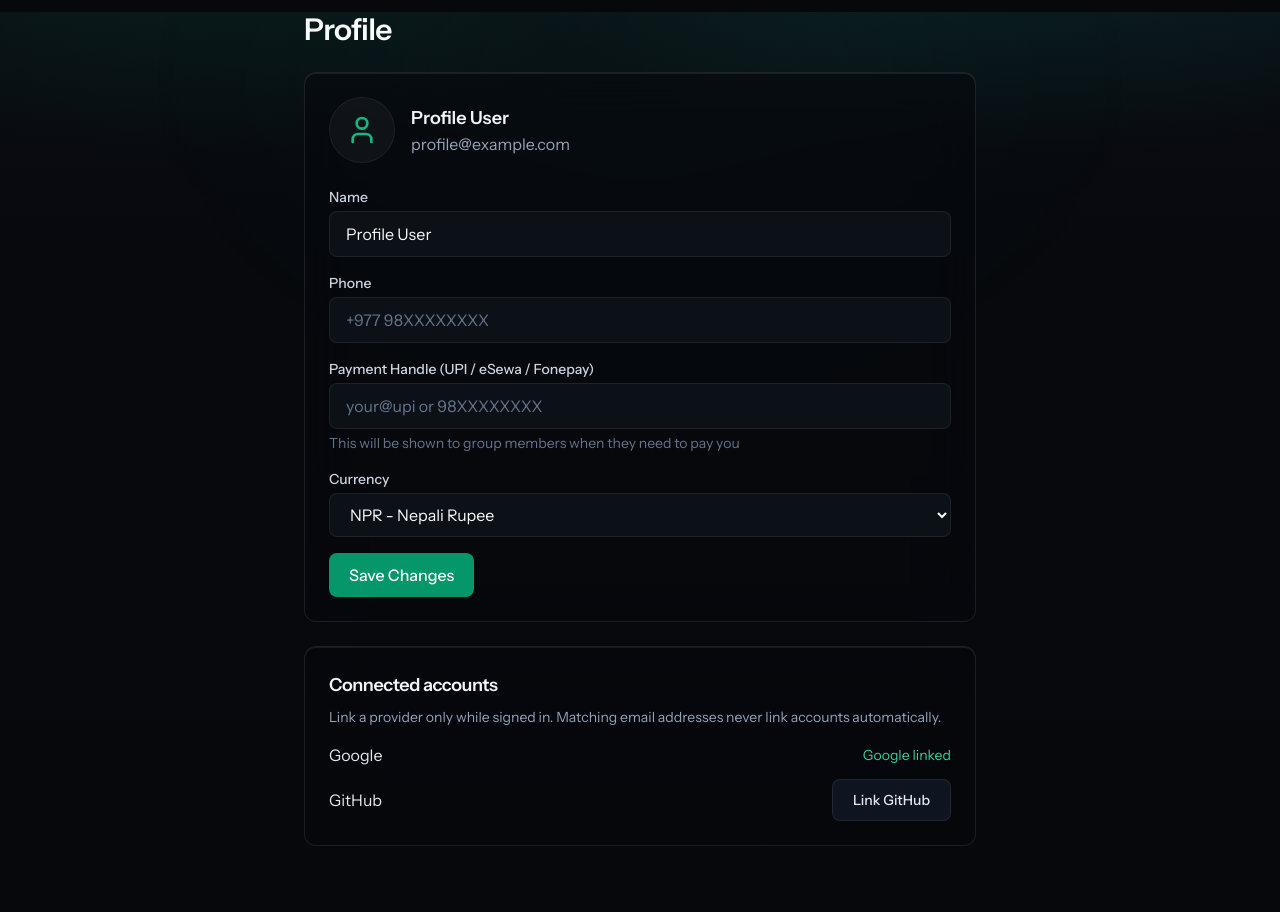
ProfilePage provider linking › shows a clear error if provider linking cannot start
The image size is (1280, 912).
Click the button "Link GitHub" at (892, 800), box [832,779,951,821]
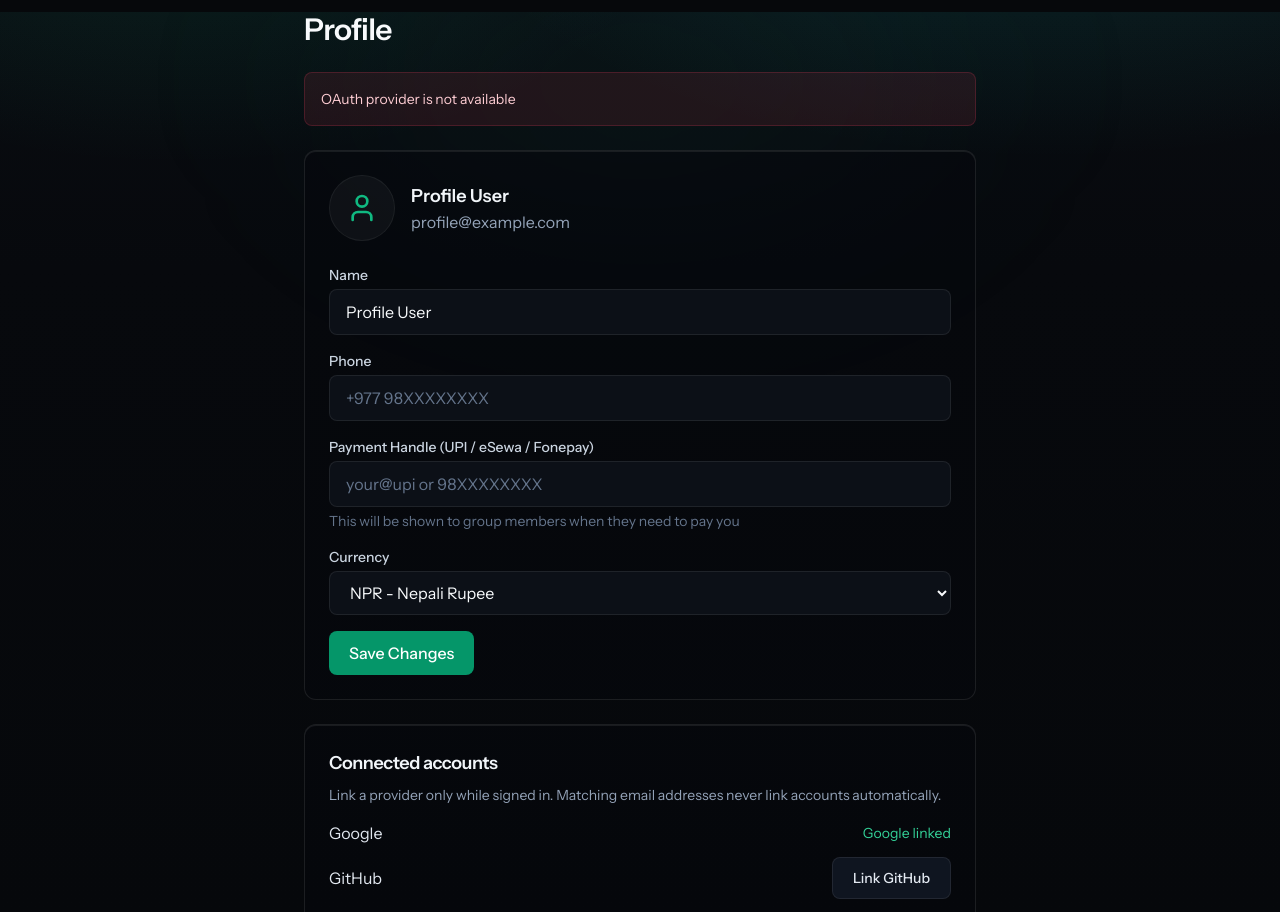
Now the text "OAuth provider is not available" is shown, box [321,89,516,109]
